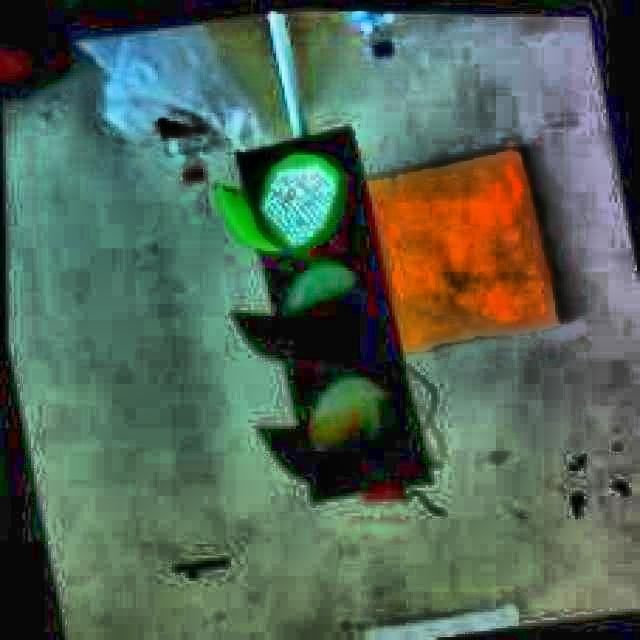green: (236, 129, 436, 484)
